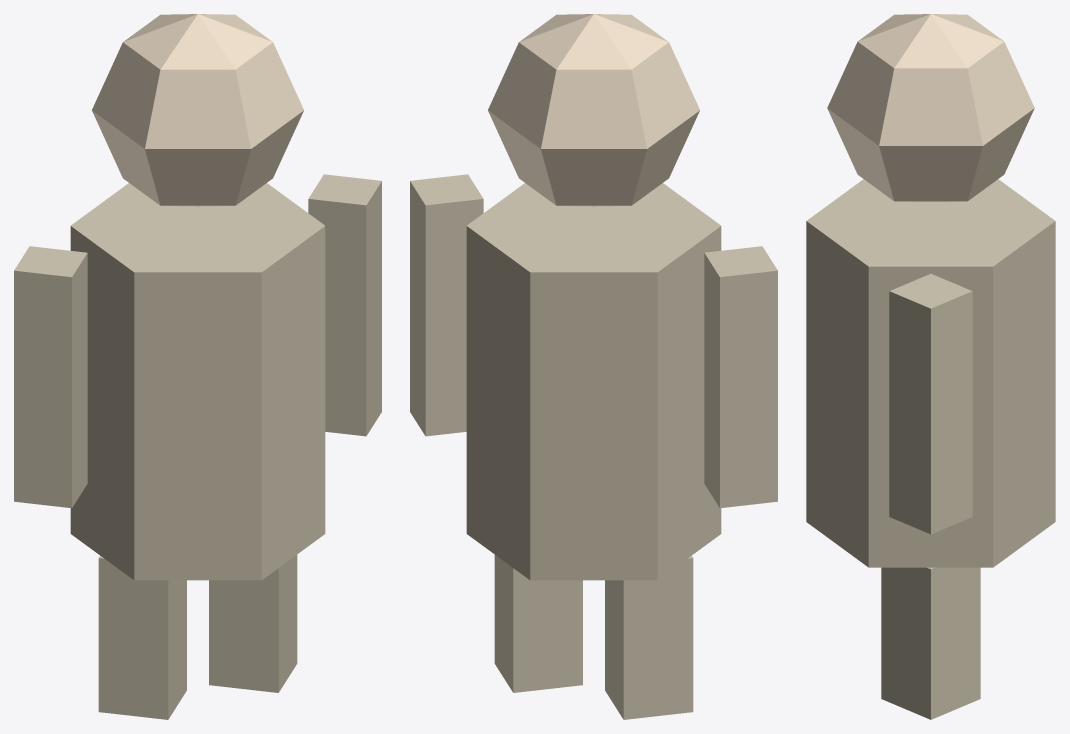
The model's file is dairymaid.glb.
3 views of the same model, side by side, from view 1: azimuth 30°, elevation 25°; view 2: azimuth 150°, elevation 25°; view 3: azimuth 270°, elevation 25° (orthographic). The views are drawn at different scales.
Visible parts, largest first — view 1: dairymaid_torso, dairymaid_head, dairymaid_arm_l, dairymaid_arm_r, dairymaid_leg_l, dairymaid_leg_r; view 2: dairymaid_torso, dairymaid_head, dairymaid_arm_l, dairymaid_arm_r, dairymaid_leg_l, dairymaid_leg_r; view 3: dairymaid_torso, dairymaid_head, dairymaid_arm_r, dairymaid_leg_r.
Boxes of the visible parts, bbox=[...] form: dairymaid_torso: bbox=[70, 183, 325, 580]; dairymaid_head: bbox=[92, 14, 303, 206]; dairymaid_arm_l: bbox=[14, 246, 87, 508]; dairymaid_arm_r: bbox=[308, 174, 381, 436]; dairymaid_leg_l: bbox=[98, 555, 186, 719]; dairymaid_leg_r: bbox=[209, 555, 297, 692]; dairymaid_torso: bbox=[466, 183, 721, 580]; dairymaid_head: bbox=[488, 14, 699, 206]; dairymaid_arm_l: bbox=[704, 246, 777, 508]; dairymaid_arm_r: bbox=[410, 174, 483, 436]; dairymaid_leg_l: bbox=[605, 555, 693, 719]; dairymaid_leg_r: bbox=[494, 555, 582, 692]; dairymaid_torso: bbox=[806, 179, 1055, 567]; dairymaid_head: bbox=[827, 14, 1034, 201]; dairymaid_arm_r: bbox=[889, 274, 972, 534]; dairymaid_leg_r: bbox=[881, 567, 980, 719].
Bounding box in the file's own units: 0.375 × 0.6562 × 0.225.
